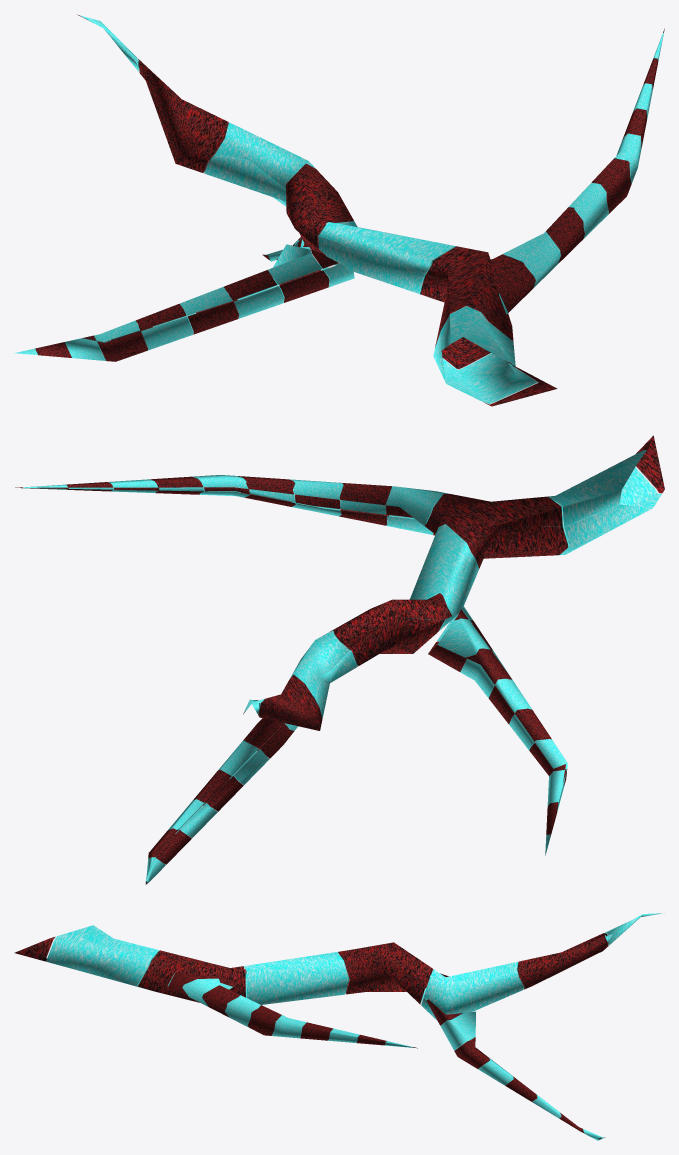
3 views of the same model, one above another, from view 1: azimuth 30°, elevation 25°; view 2: azimuth 150°, elevation 25°; view 3: azimuth 270°, elevation 25° (orthographic). The views are drawn at different scales.
Visible parts, largest first — view 1: SM_VFX_Twigs_SM_VFX_TwigA_LOD0; view 2: SM_VFX_Twigs_SM_VFX_TwigA_LOD0; view 3: SM_VFX_Twigs_SM_VFX_TwigA_LOD0.
Boxes of the visible parts, x1,y1,x2,y2 form: SM_VFX_Twigs_SM_VFX_TwigA_LOD0: [14, 14, 664, 406]; SM_VFX_Twigs_SM_VFX_TwigA_LOD0: [15, 435, 664, 884]; SM_VFX_Twigs_SM_VFX_TwigA_LOD0: [14, 913, 662, 1140].
Size of the model in its own units: 2.54 by 1.05 by 3.32.
